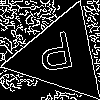P: (35, 30, 78, 82)
